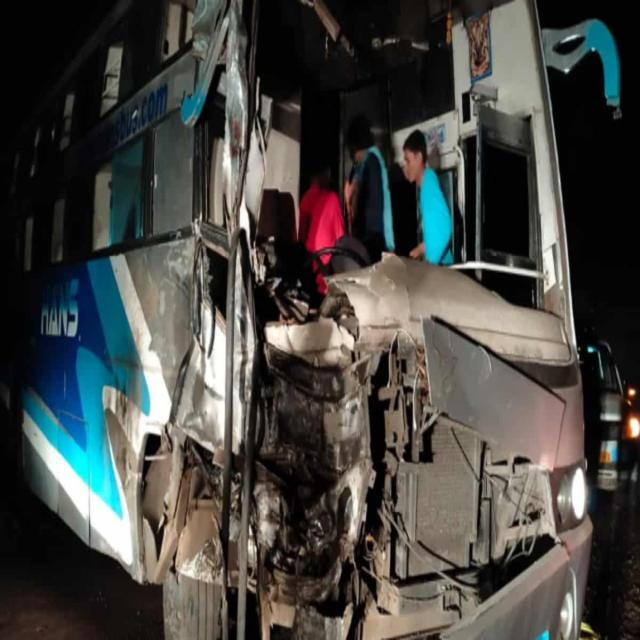accident: (0, 0, 630, 640)
